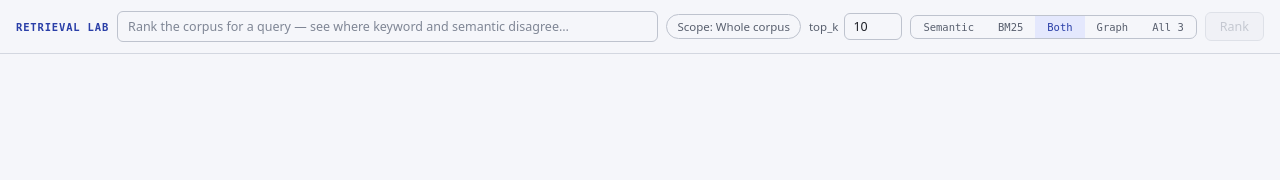
Scenario: RetrievalLab graph mode › labels an unavailable mode and keeps the surviving modes agreement
Click the button "All 3": [1168, 26] box x1=1140 y1=16 x2=1196 y2=38
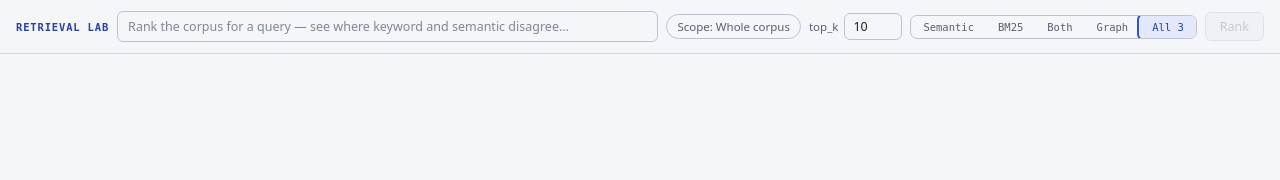
In the search field named "Retrieval query": [388, 26] box x1=117 y1=11 x2=658 y2=42, type "negative gearing"
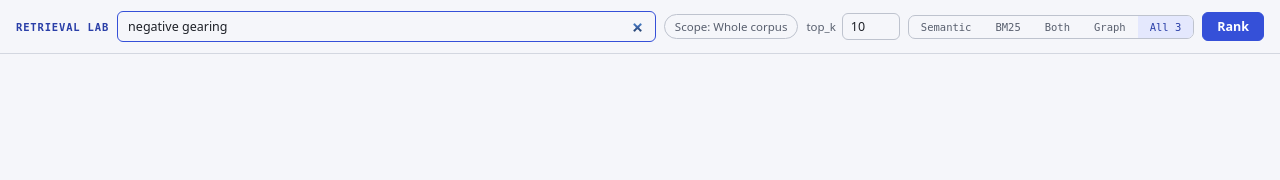
Click the button "Rank": [1233, 26] box x1=1202 y1=12 x2=1264 y2=41
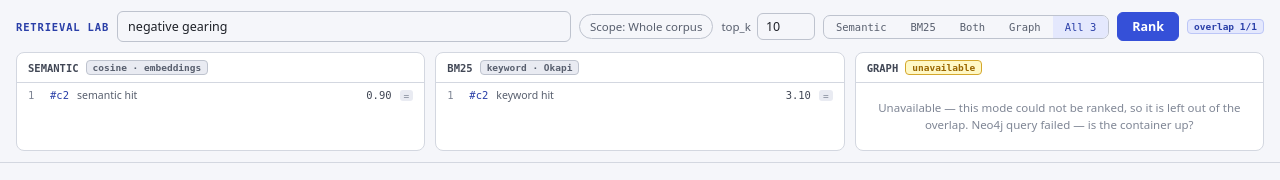
Check: the text "unavailable" is shown, box x1=905 y1=60 x2=982 y2=75
Check: the text "Neo4j query failed" is shown, box x1=971 y1=117 x2=1194 y2=132
Check: the text "overlap 1/1" is shown, box x1=1187 y1=19 x2=1264 y2=34
